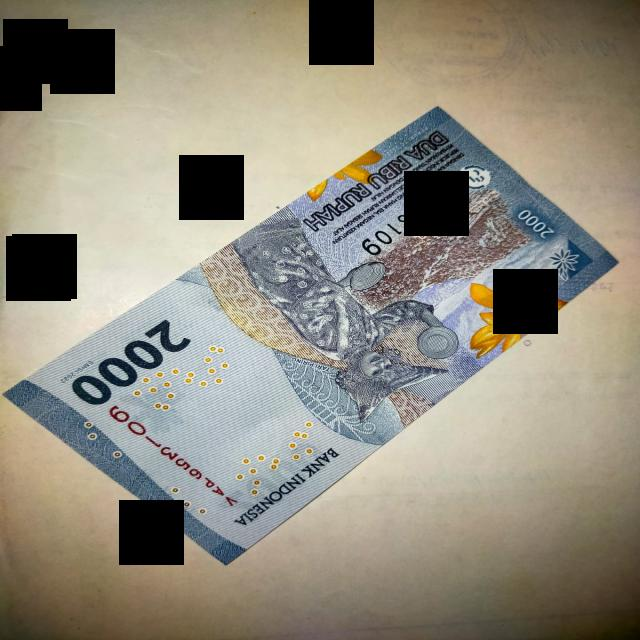dua ribu rupiah: (7, 108, 617, 563)
